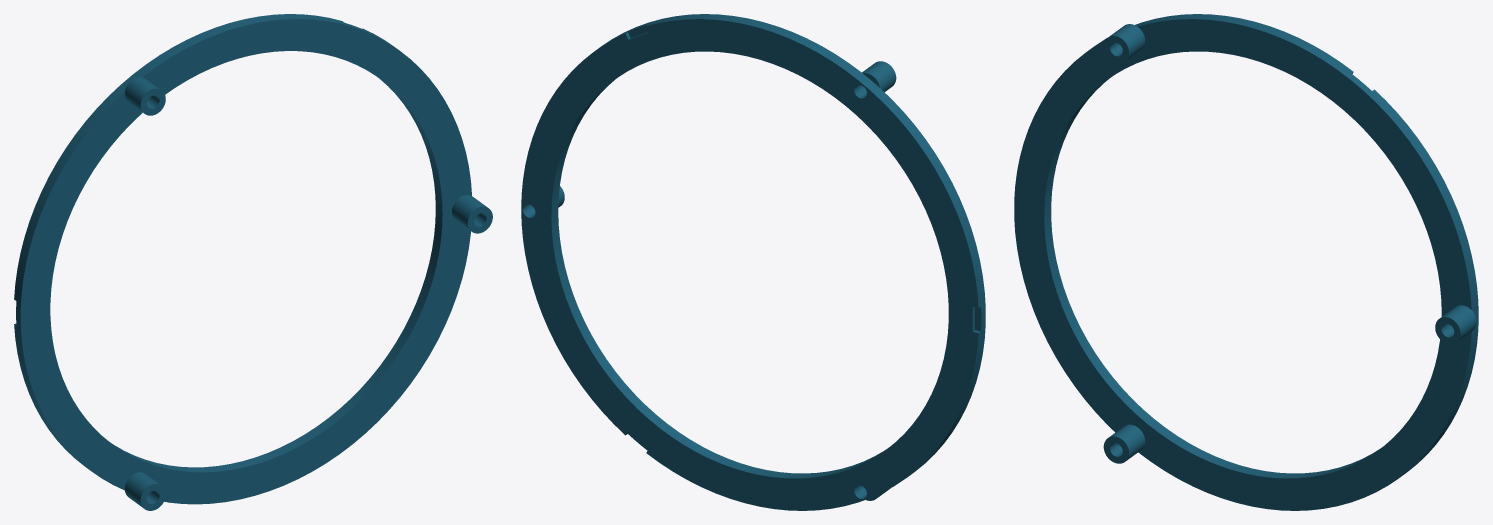
The model's file is Outer_Race_Retainer.obj.
3 views of the same model, side by side, from view 1: azimuth 30°, elevation 25°; view 2: azimuth 150°, elevation 25°; view 3: azimuth 330°, elevation 25° (orthographic).
Visible parts, largest first — view 1: Outer_Race_Retainer; view 2: Outer_Race_Retainer; view 3: Outer_Race_Retainer.
Part boxes in pixels (left/top/right/bottom): Outer_Race_Retainer: left=14, top=14, right=492, bottom=510; Outer_Race_Retainer: left=521, top=14, right=985, bottom=510; Outer_Race_Retainer: left=1014, top=14, right=1478, bottom=510.
Size of the model in its own units: 58.2 by 57.59 by 5.
